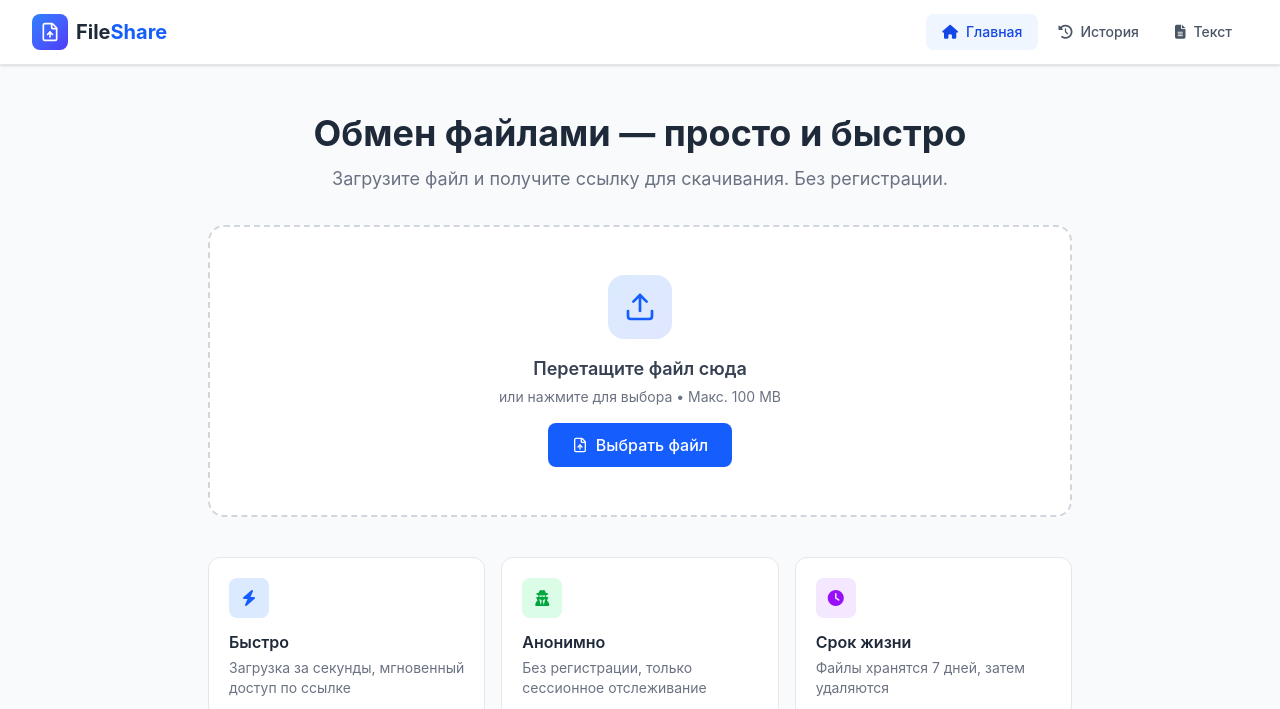
Test case: FileShare — Home Page › should navigate to text share page
Click the button "Текст" at (1204,32), box [1159, 14, 1248, 50]
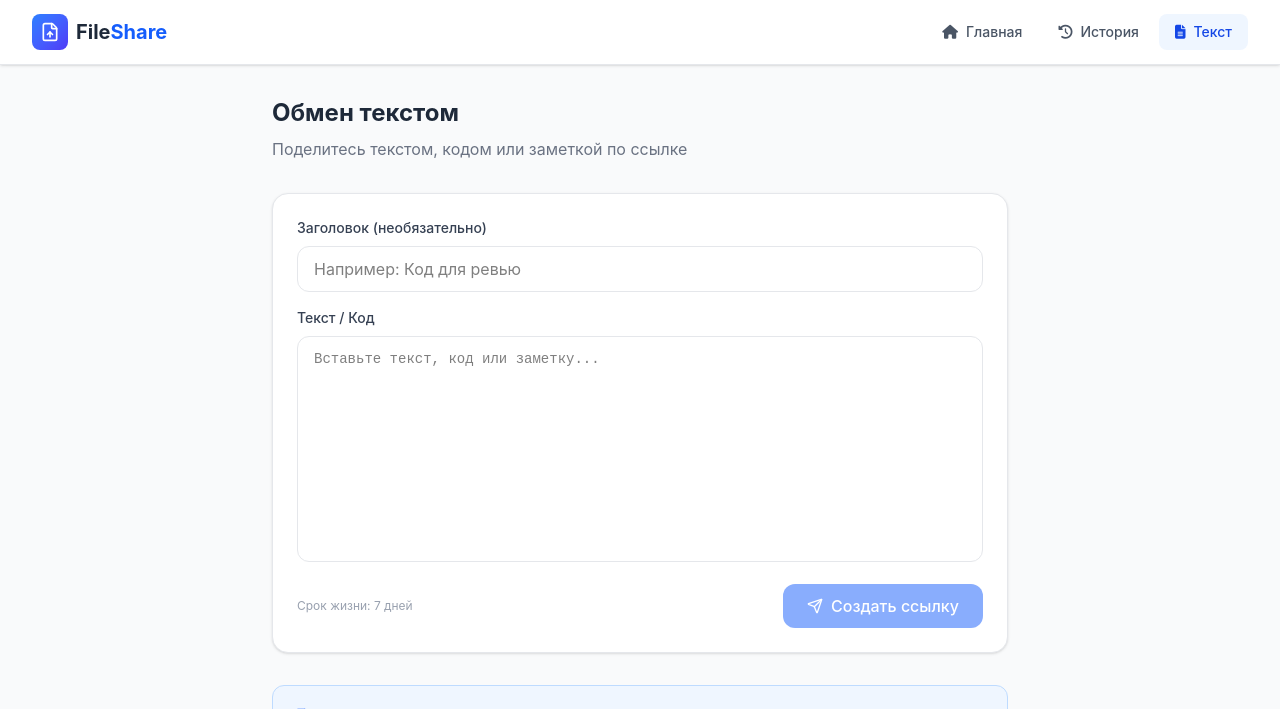
Check: the heading "Обмен текстом" is shown, box [272, 98, 459, 127]
